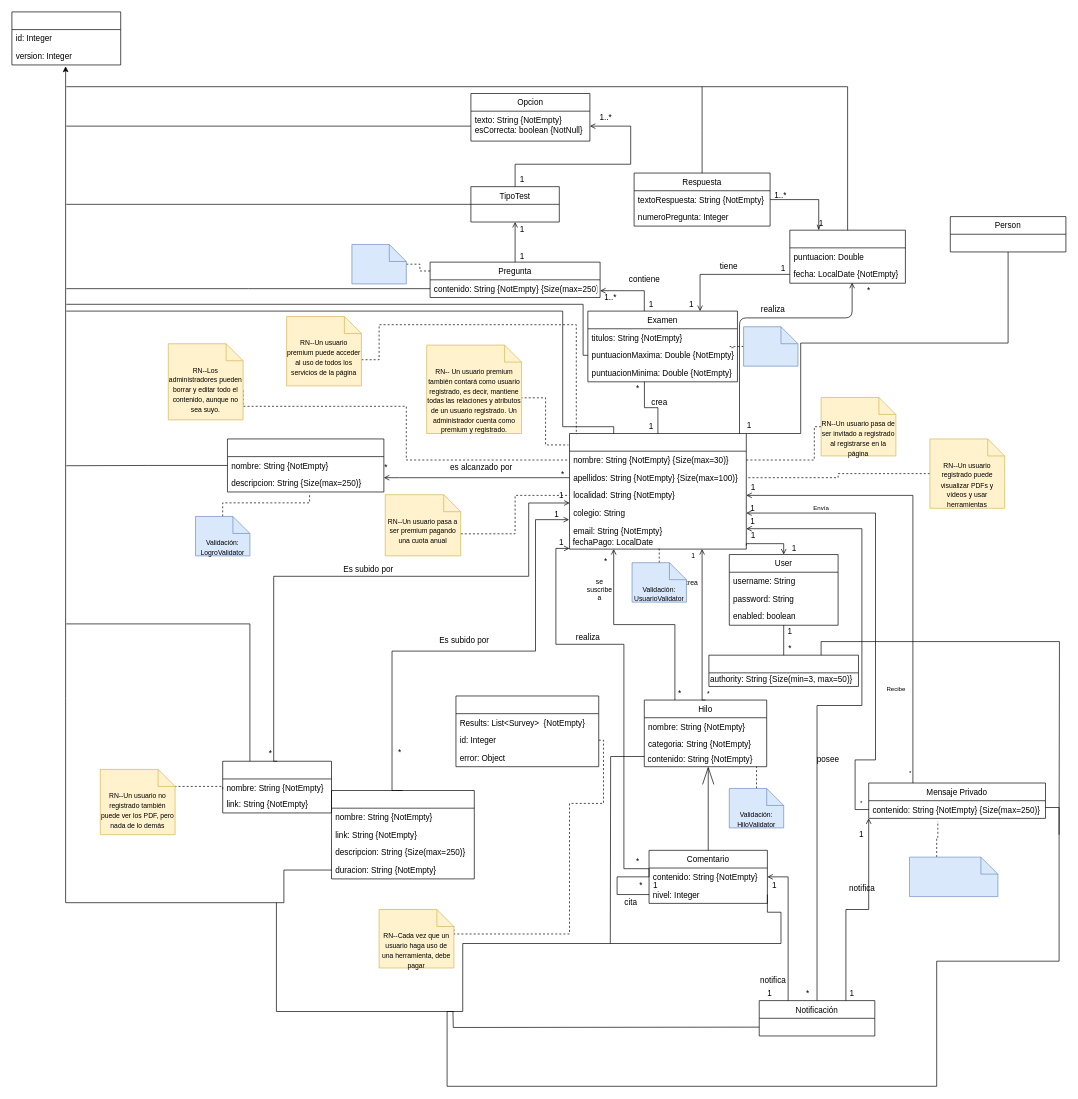
The diagram is 1078 pixels wide and 1099 high, and some of its shapes have lost their labels. Each missing label, with the box of its shape:
Authorities: (708, 654, 859, 686)
BaseEntity: (11, 11, 121, 65)
CoreSearch: (455, 695, 599, 767)
Intento: (789, 230, 905, 283)
Logro: (227, 438, 384, 492)
Pdf: (222, 761, 332, 813)
Usuario: (569, 433, 746, 549)
Validación: ExamenValidator: (743, 326, 798, 366)
Validación: MensajePrivadoValidator: (909, 856, 998, 897)
Validación: PreguntaValidator: (351, 244, 406, 284)
Video: (331, 790, 474, 879)
